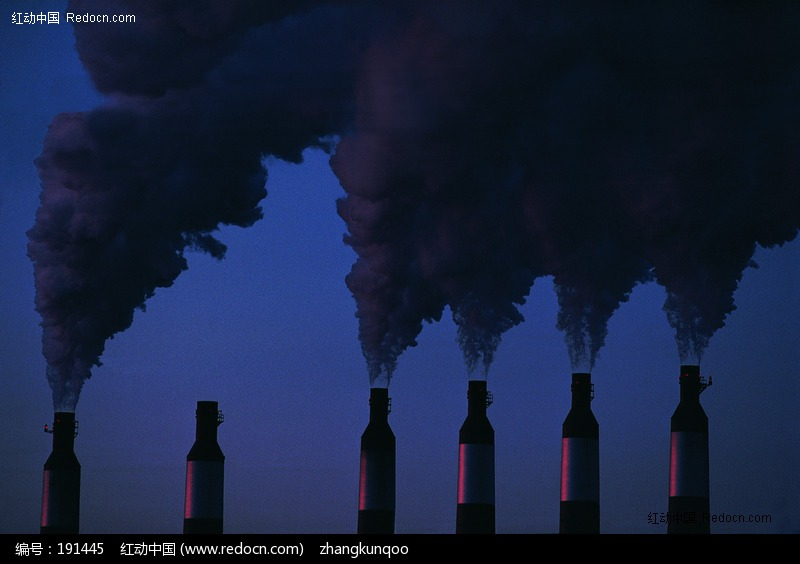dust: (26, 215, 153, 411), (627, 194, 753, 372), (329, 213, 439, 400), (423, 224, 537, 392), (530, 219, 635, 383)
